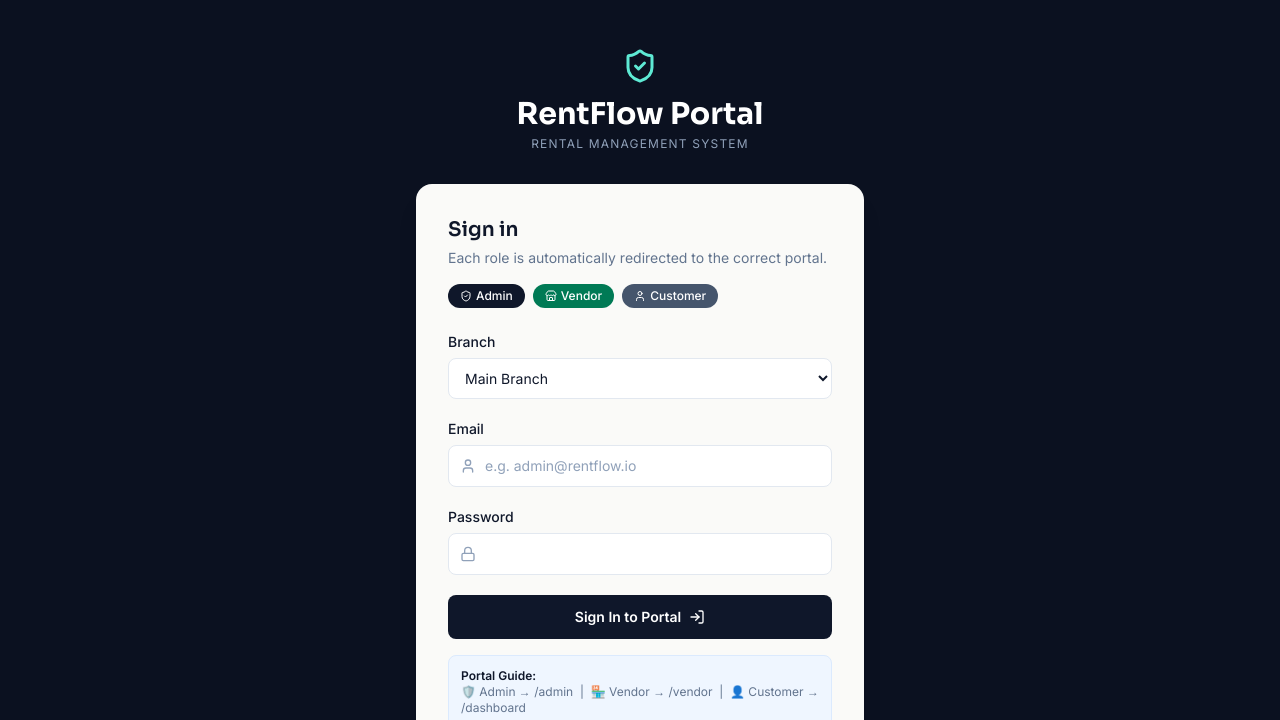
it: Admin authentication and RBAC › logs in and lands on the admin operations dashboard
The image size is (1280, 720).
Select "Main Branch" in the dropdown with test id "login-branch": (640, 379) [448,358,832,399]
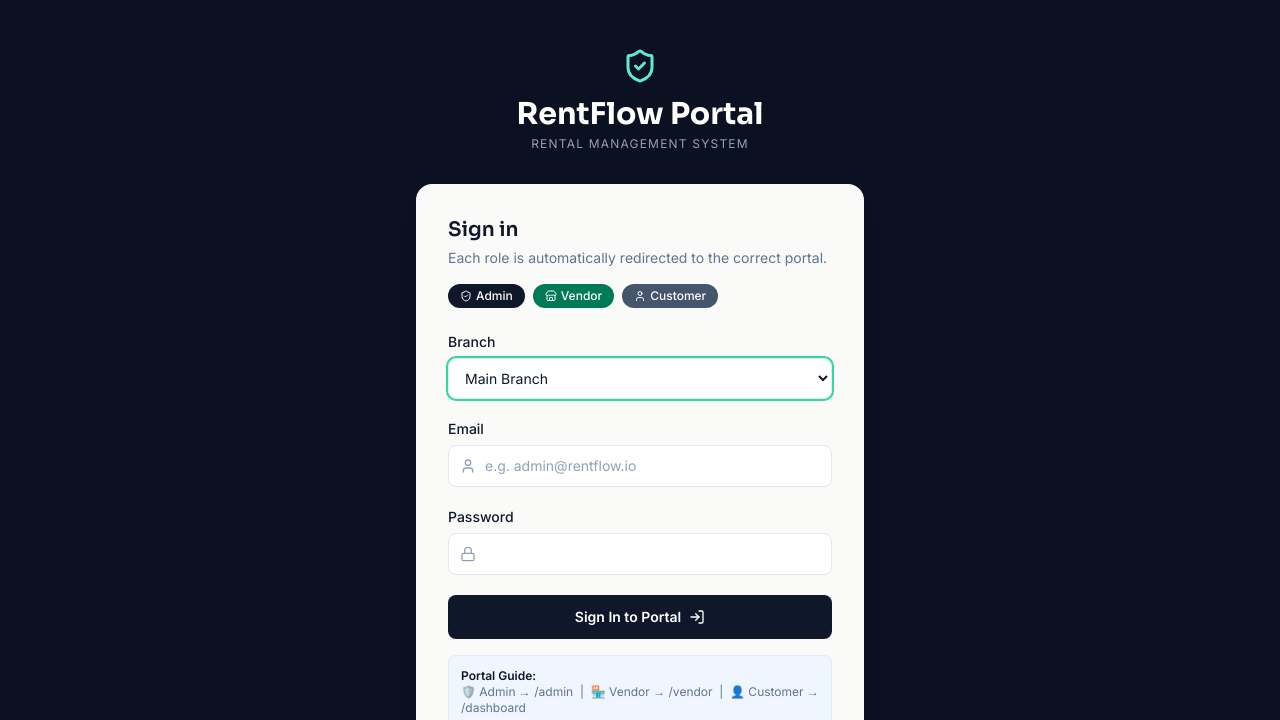
In the field with test id "login-identifier": (640, 466) [448,445,832,487], type "admin@rentflow.io"
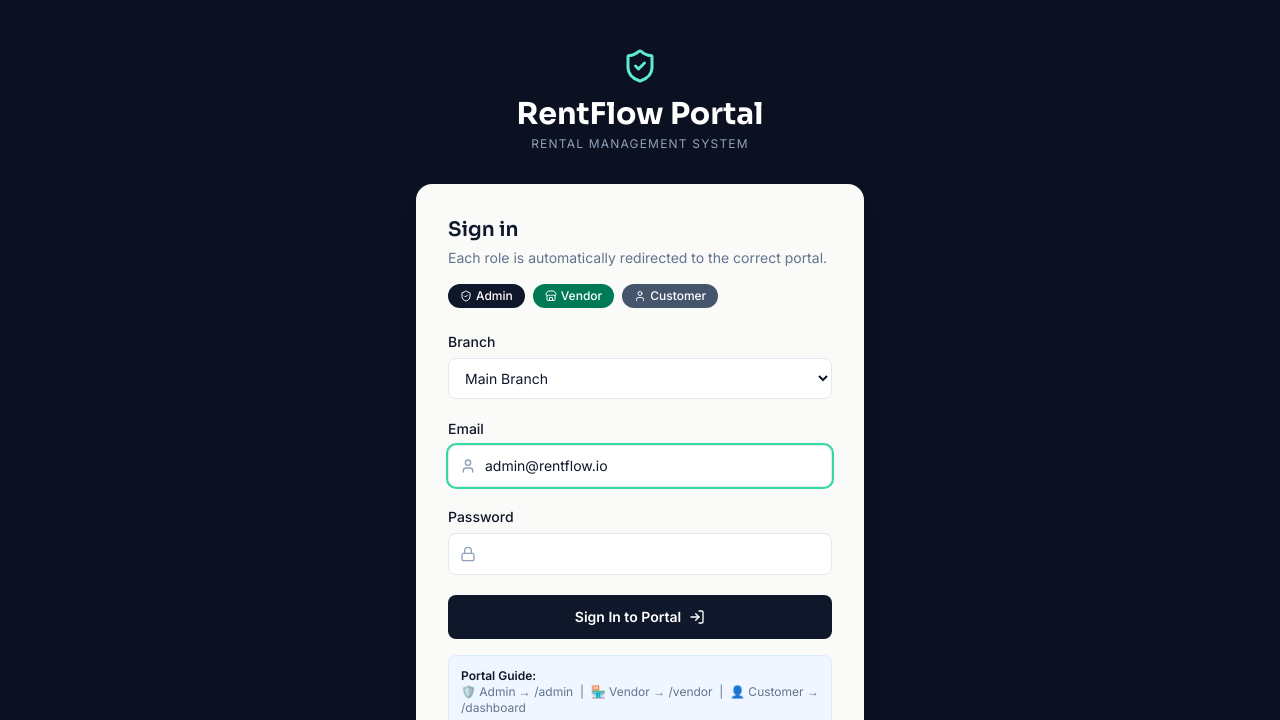
In the password field with test id "login-password": (640, 554) [448,533,832,575], type "admin123"
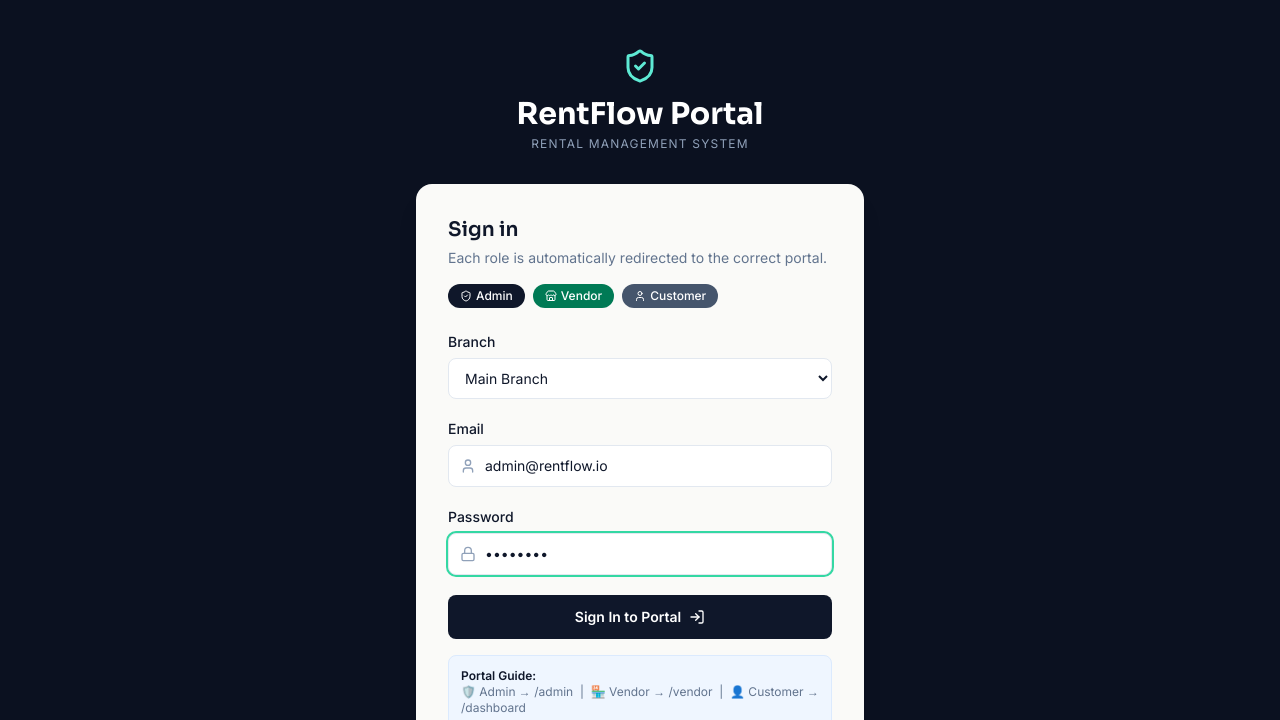
Click the button with test id "login-submit": (640, 617) [448,595,832,639]
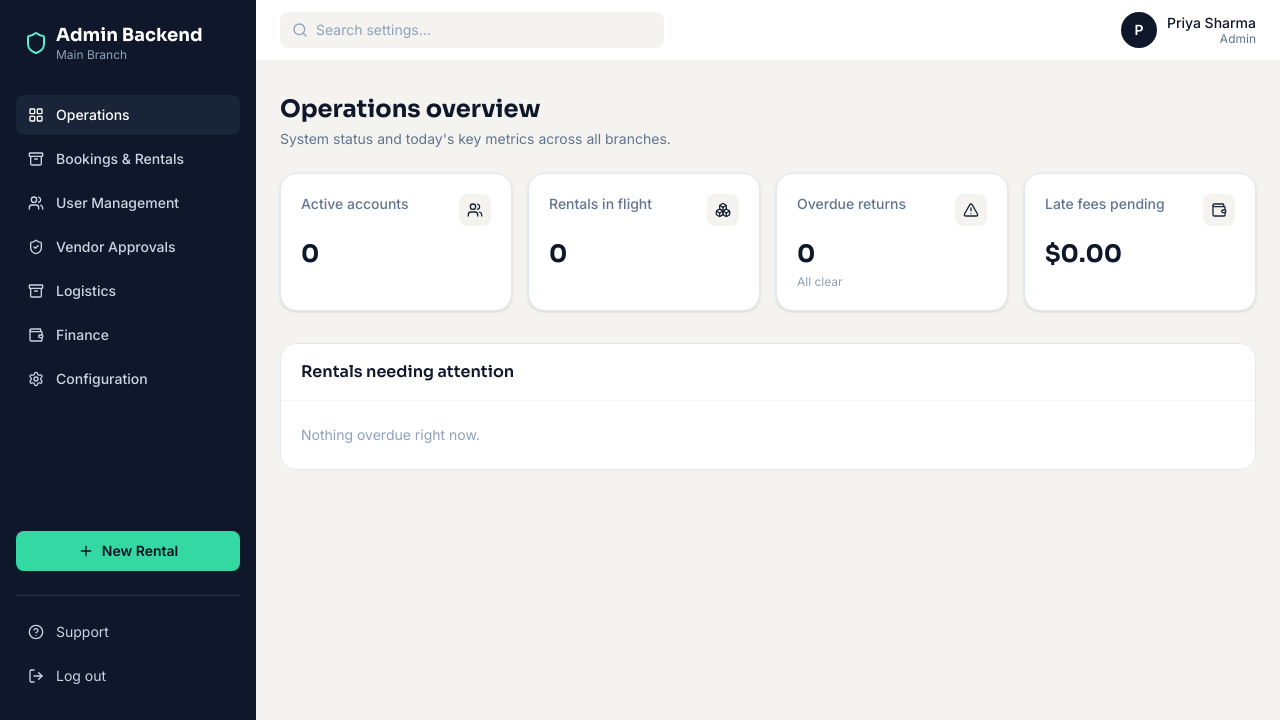
Expected: the element with test id "admin-dashboard-stats" is shown, [280,173,1256,311]
